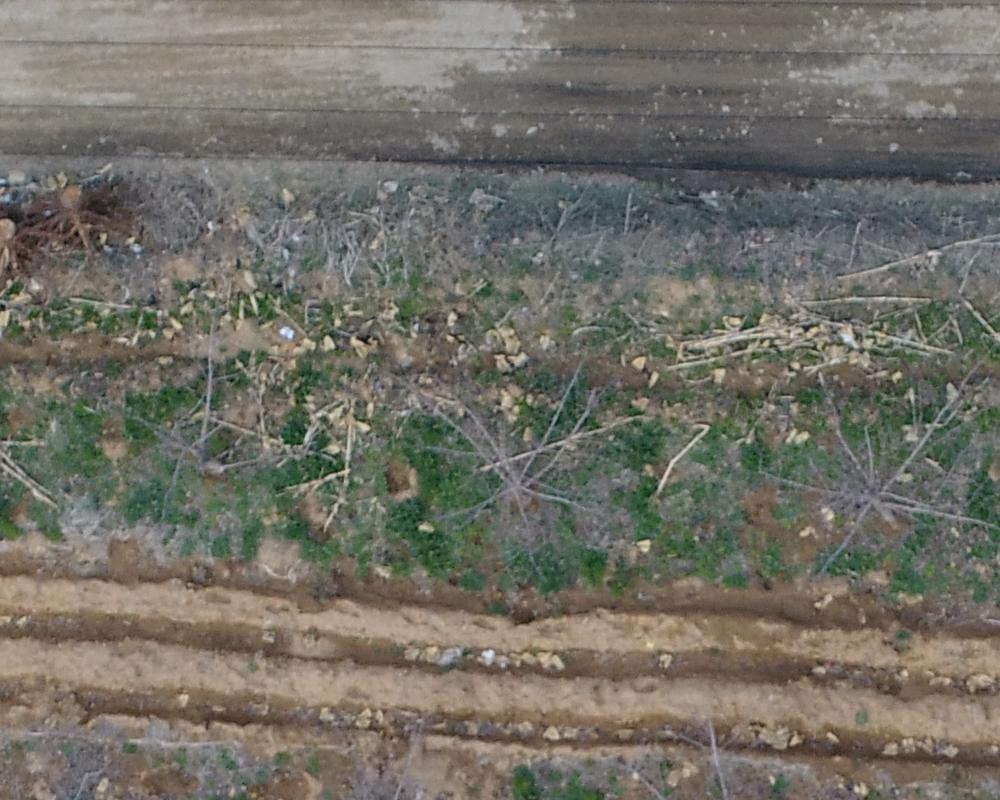apple: (744, 370, 990, 578), (407, 360, 621, 552), (63, 355, 258, 500)
